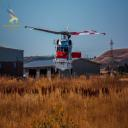helicopter: (21, 24, 107, 78)
